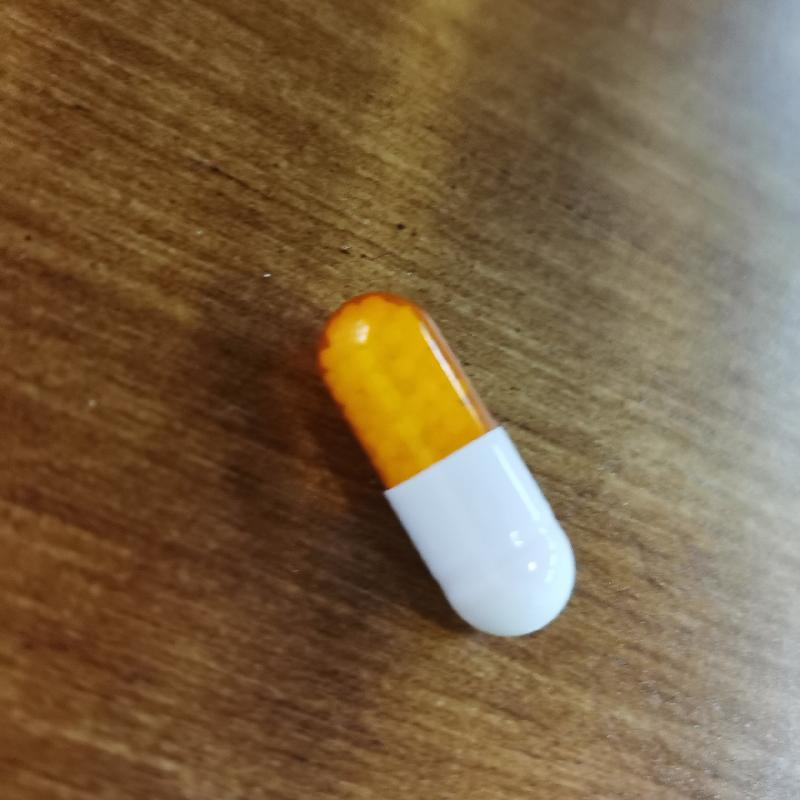pills: (295, 273, 586, 649)
